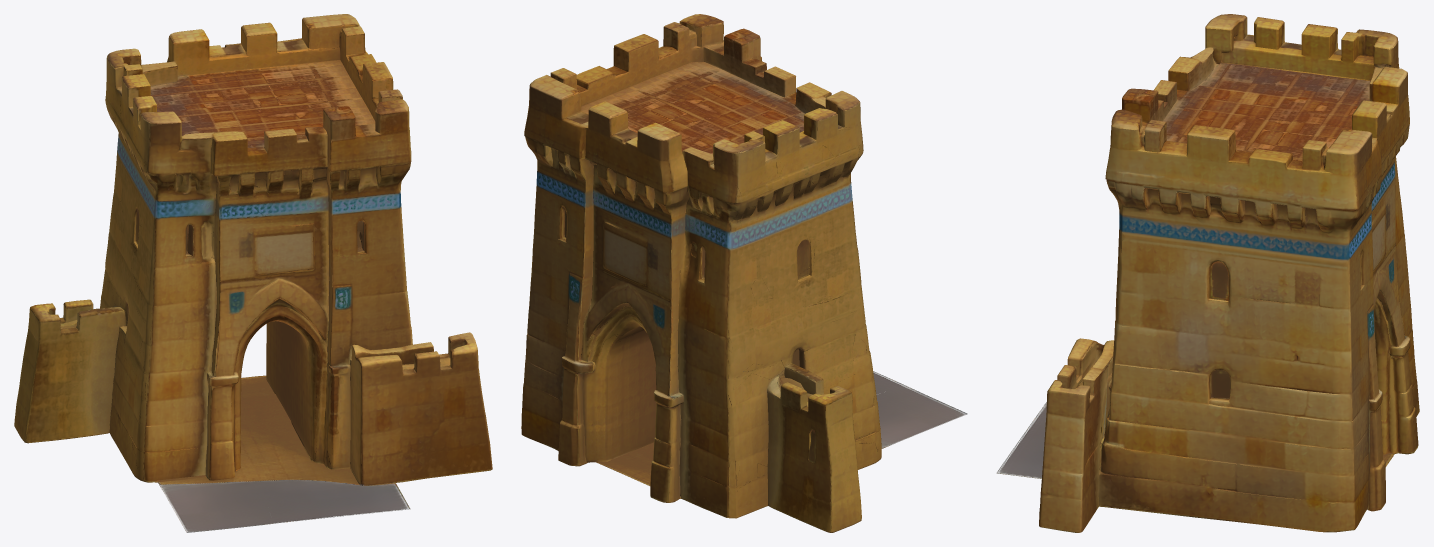
The model's file is jer_gate_jaffa.glb.
3 views of the same model, side by side, from view 1: azimuth 30°, elevation 25°; view 2: azimuth 150°, elevation 25°; view 3: azimuth 270°, elevation 25° (orthographic). The views are drawn at different scales.
Visible parts, largest first — view 1: geometry_0; view 2: geometry_0; view 3: geometry_0.
Boxes of the visible parts, bbox=[...] form: geometry_0: bbox=[14, 14, 492, 532]; geometry_0: bbox=[521, 14, 967, 532]; geometry_0: bbox=[996, 14, 1419, 532].
Size of the model in its own units: 17.65 by 17.8 by 17.97.
Materials: 1 (1 with a texture image).
